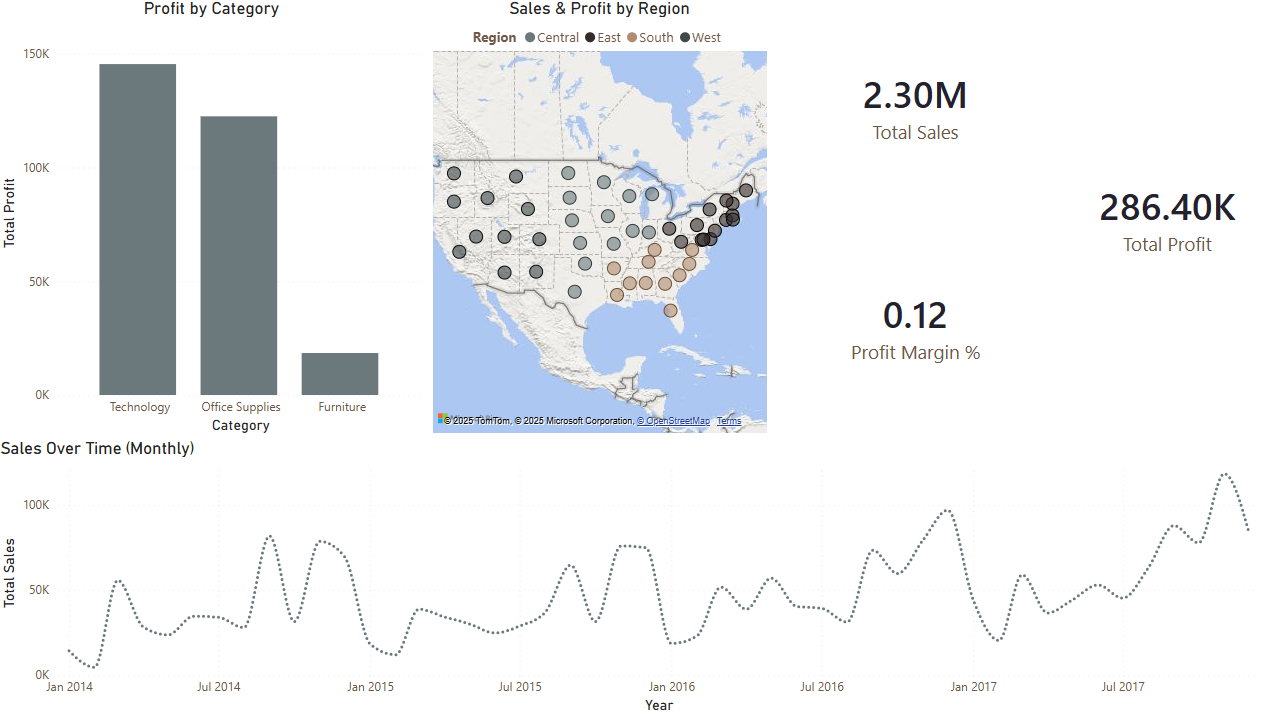

What the dashboard file says about the page in this screenshot:
{"tool":"powerbi","page":{"name":"Executive Overview","canvas":[1280,720],"ordinal":0},"visuals":[{"type":"cardVisual","fields":{"Data":["superstore.Total Sales"]},"box":[776,0,288,216],"z":0},{"type":"cardVisual","fields":{"Data":["superstore.Profit Margin %"]},"box":[776,216,288,224],"z":1000},{"type":"cardVisual","fields":{"Data":["superstore.Total Profit"]},"box":[1064,0,216,440],"z":2000},{"type":"lineChart","title":"Sales Over Time (Monthly)","fields":{"Category":["superstore.Order Date.Variation.Date Hierarchy.Year","superstore.Order Date.Variation.Date Hierarchy.Month"],"Y":["superstore.Total Sales"]},"box":[0,440,1280,280],"z":3000},{"type":"clusteredColumnChart","title":"Profit by Category","fields":{"Category":["superstore.Category"],"Y":["superstore.Total Profit"]},"box":[0,0,432,440],"z":4000},{"type":"map","title":"Sales & Profit by Region","fields":{"Category":["superstore.State"],"Series":["superstore.Region"]},"box":[432,0,344,440],"z":5000}]}

Visuals, with their boxes in screenshot pixels (x1, y1, x2, y2), scaled from the page's 1280x720 canvas onto the 1274x716 screenshot:
cardVisual - superstore.Total Sales: Rect(772, 0, 1059, 215)
cardVisual - superstore.Profit Margin %: Rect(772, 215, 1059, 438)
cardVisual - superstore.Total Profit: Rect(1059, 0, 1273, 438)
"Sales Over Time (Monthly)" lineChart: Rect(0, 438, 1273, 715)
"Profit by Category" clusteredColumnChart: Rect(0, 0, 430, 438)
"Sales & Profit by Region" map: Rect(430, 0, 772, 438)
